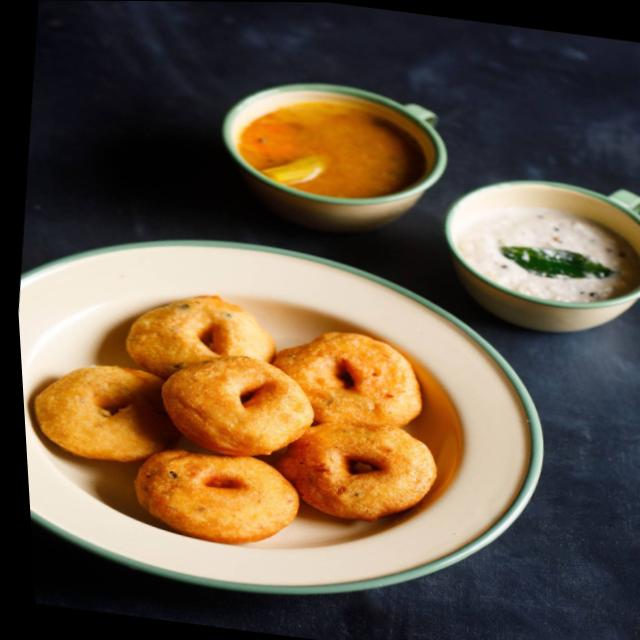SAMBAR: (242, 94, 417, 196)
VADA: (24, 293, 444, 540)
WHITE CHUTNEY: (462, 210, 640, 299)
